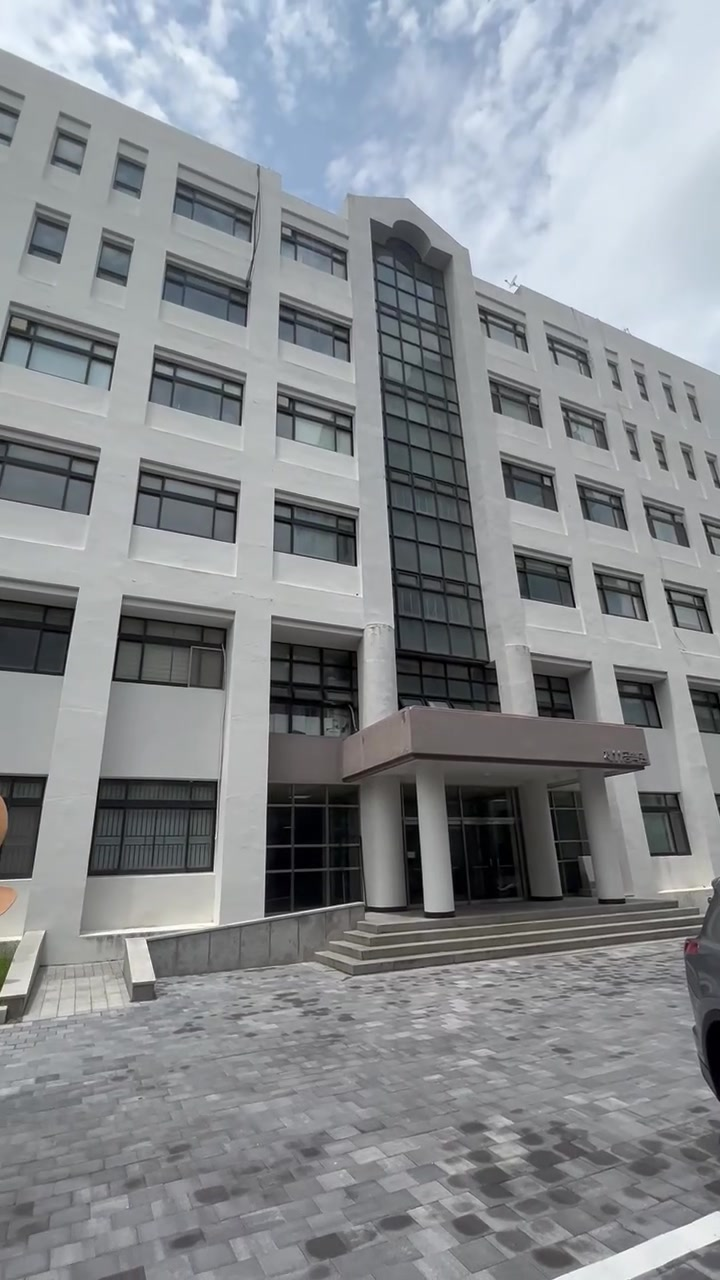medium: (6, 130, 720, 934)
